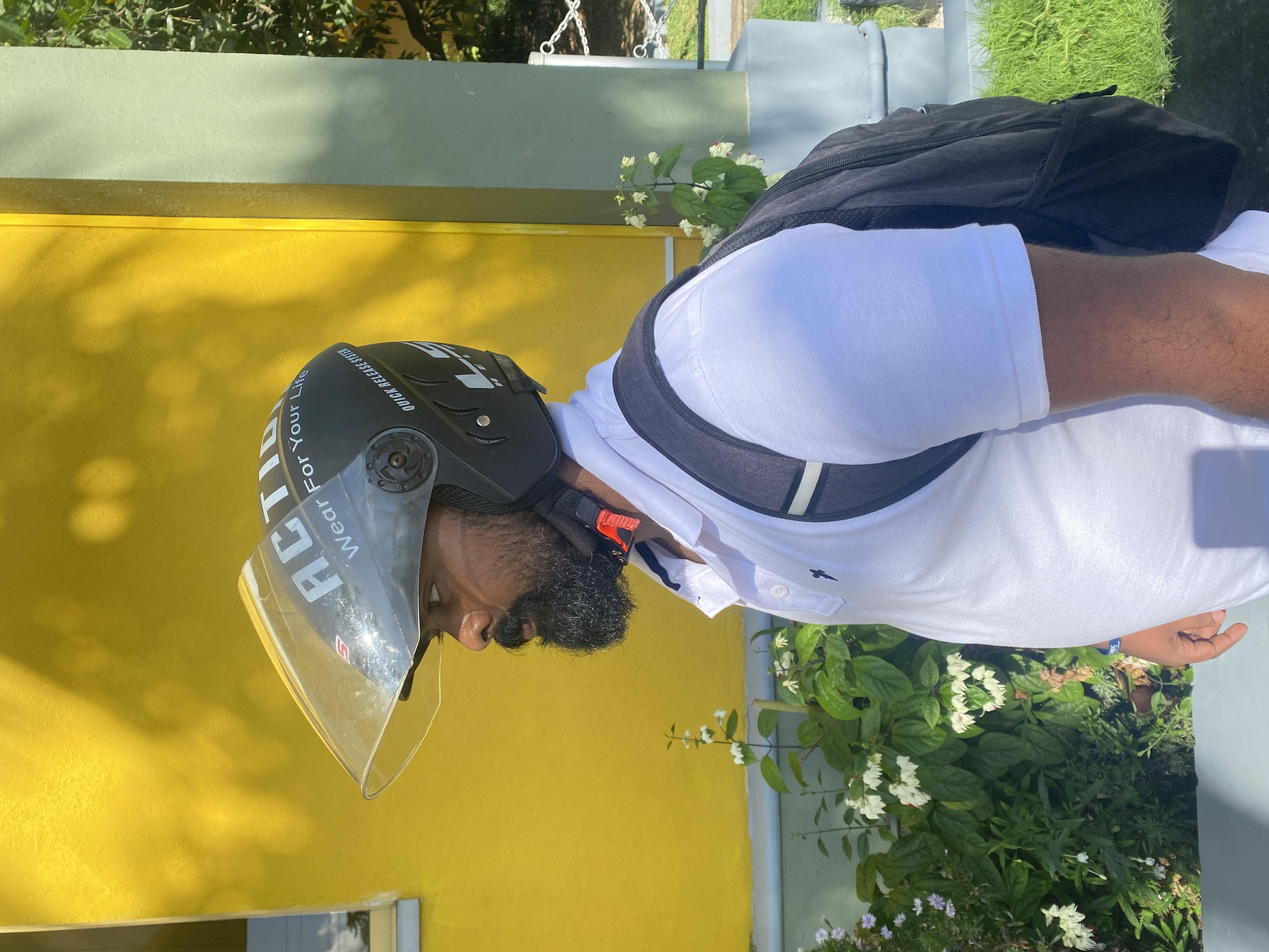helmet: (185, 180, 828, 481)
